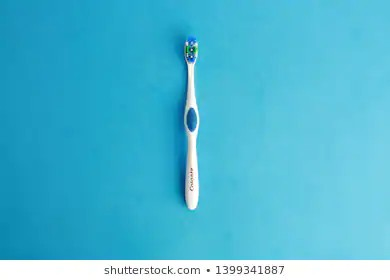toothbrush: (175, 30, 207, 215)
